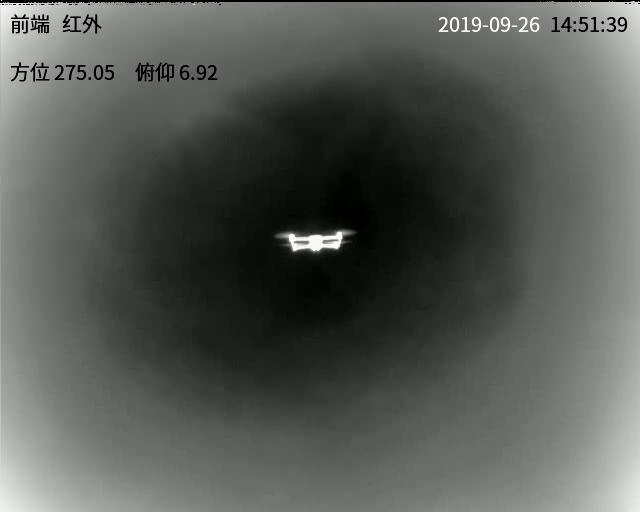DRONE: (278, 227, 349, 253)
